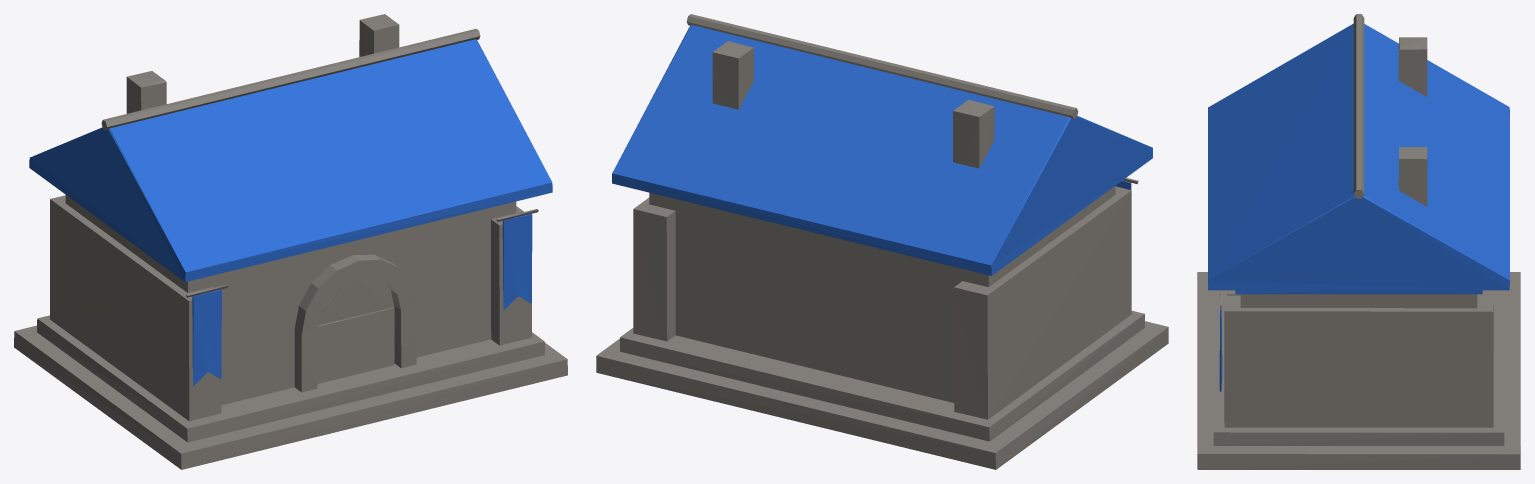
Rendered from barracks_lod1.obj.
3 renders of one model, left to right at view 1: azimuth 30°, elevation 25°; view 2: azimuth 150°, elevation 25°; view 3: azimuth 270°, elevation 25°, orthographic. The views are drawn at different scales.
Visible parts, largest first — view 1: barracks_lod1; view 2: barracks_lod1; view 3: barracks_lod1.
Part boxes in pixels (left/top/right/bottom): barracks_lod1: left=14, top=14, right=567, bottom=469; barracks_lod1: left=596, top=14, right=1168, bottom=469; barracks_lod1: left=1197, top=14, right=1520, bottom=469.
Bounding box in the file's own units: 7.98 × 5.74 × 5.97.
